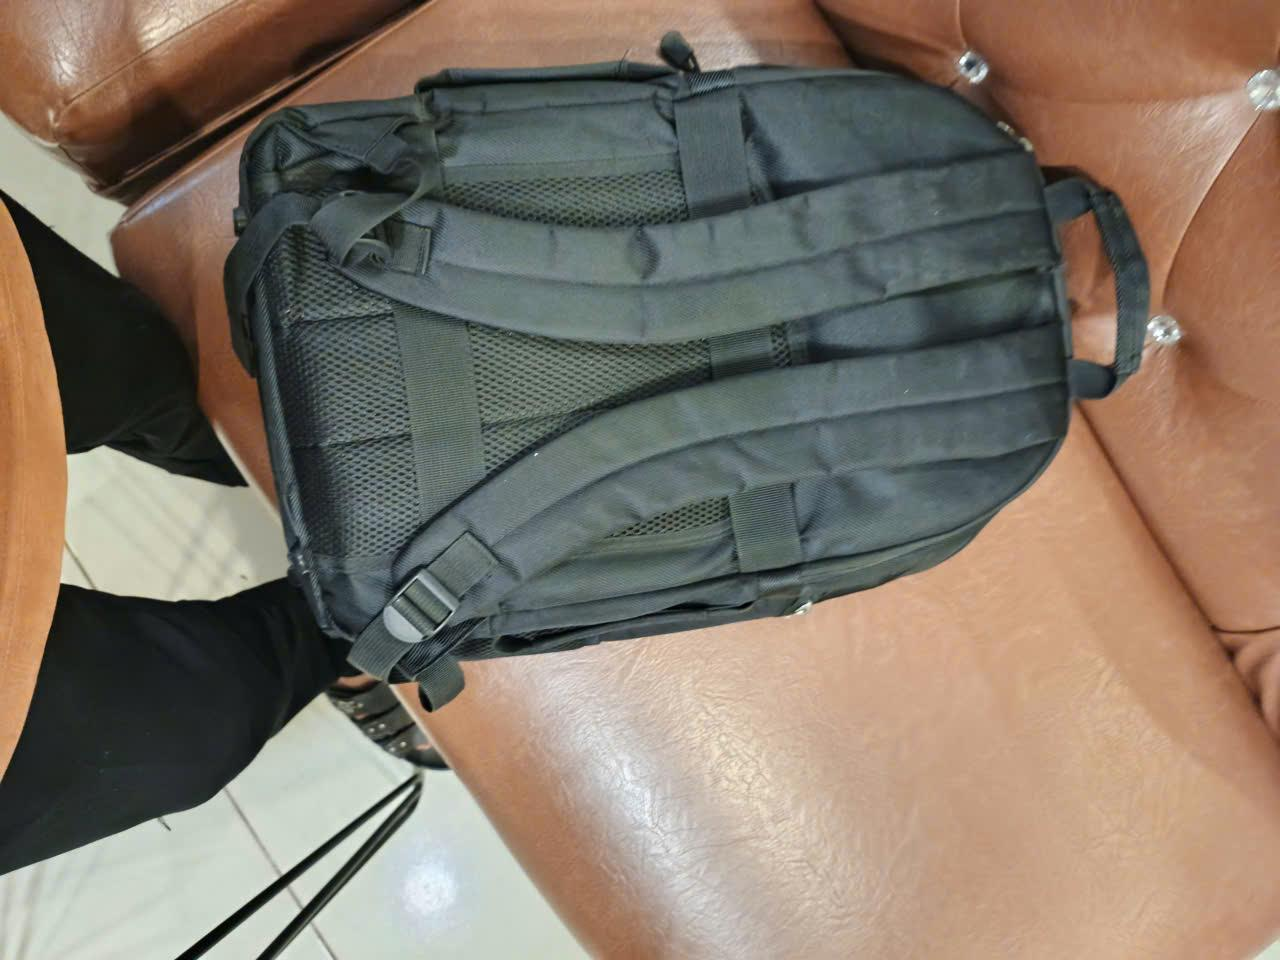Con lai: (224, 56, 1146, 721)
